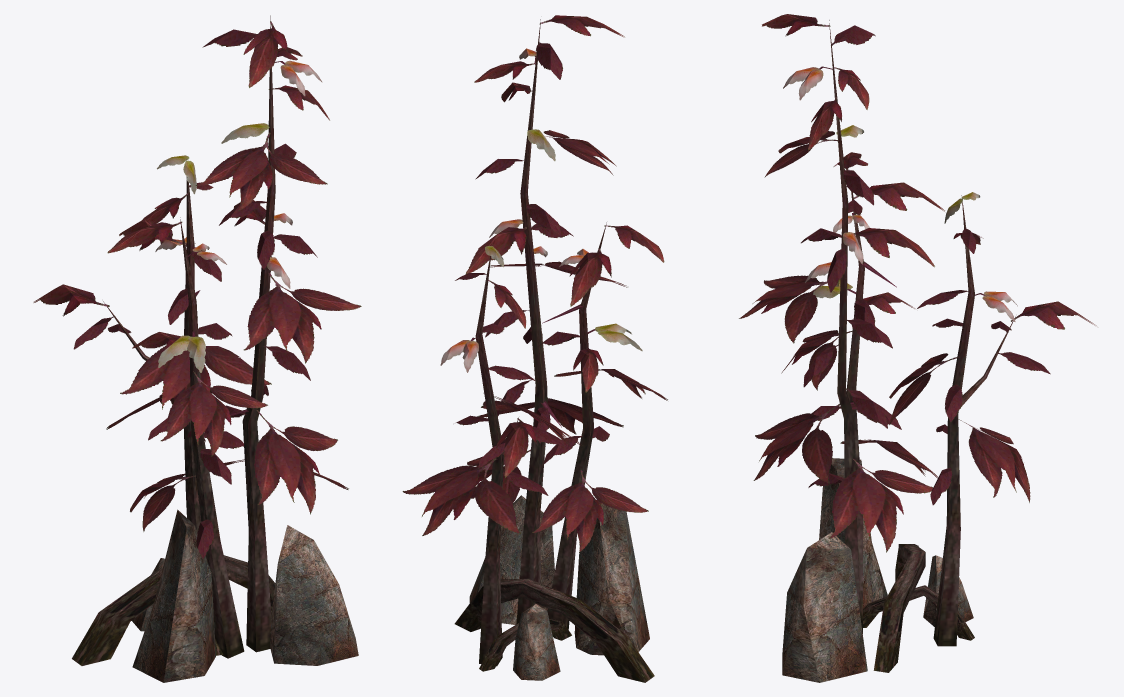
Rendered from guanmu_014.FBX.
3 renders of one model, left to right at view 1: azimuth 30°, elevation 25°; view 2: azimuth 150°, elevation 25°; view 3: azimuth 270°, elevation 25°, orthographic. The views are drawn at different scales.
Parts seen in each view (by area): view 1: guanmu_014_02, guanmu_014_04, guanmu_014_01; view 2: guanmu_014_02, guanmu_014_01, guanmu_014_04; view 3: guanmu_014_02, guanmu_014_01, guanmu_014_04.
Boxes of the visible parts, x1,y1,x2,y2 form: guanmu_014_02: [33, 21, 361, 558]; guanmu_014_04: [132, 509, 358, 682]; guanmu_014_01: [72, 15, 275, 665]; guanmu_014_02: [402, 15, 667, 552]; guanmu_014_01: [454, 19, 654, 682]; guanmu_014_04: [469, 495, 649, 680]; guanmu_014_02: [739, 14, 1096, 552]; guanmu_014_01: [829, 20, 1015, 672]; guanmu_014_04: [782, 458, 973, 682].
Bounding box in the file's own units: 1.14 × 2.92 × 1.7.
